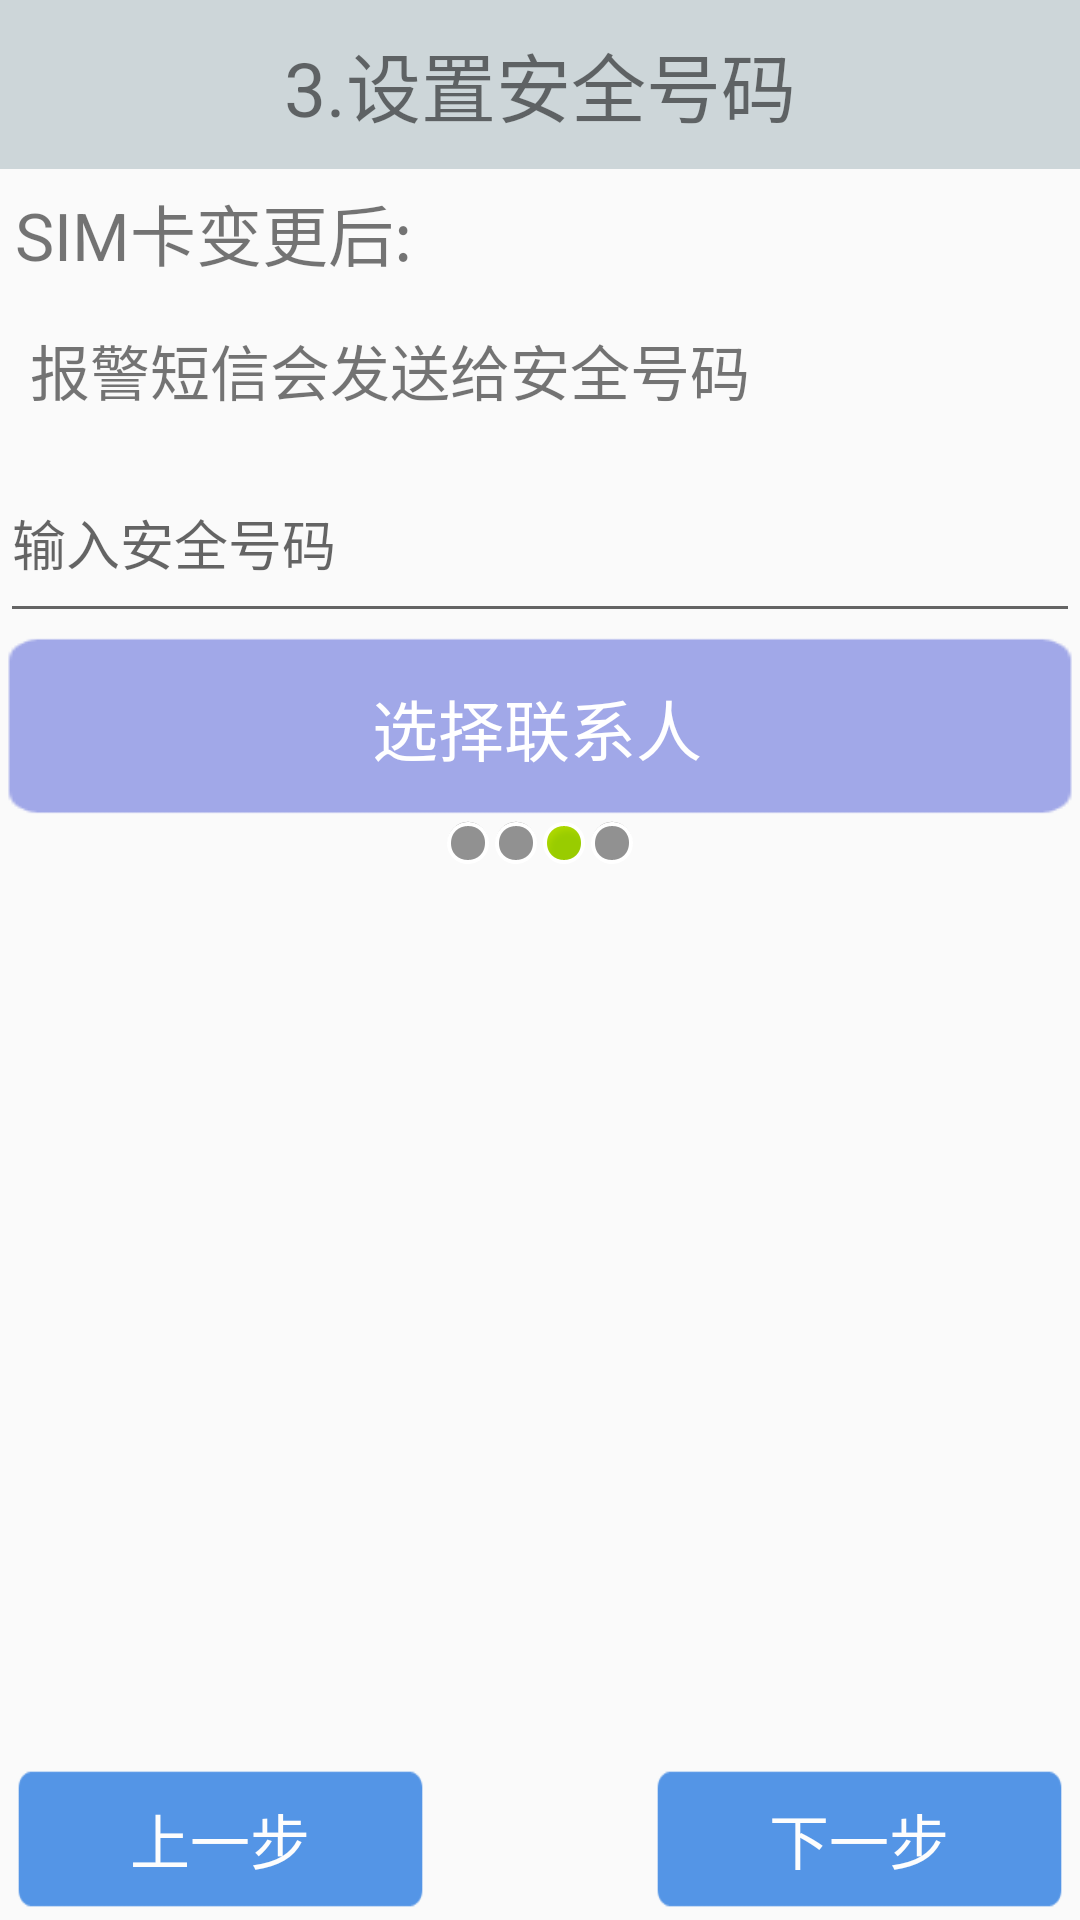

Named icons in this screenshot (1080px×1920px) and their bounding boxes, (x1, y1, x2, y2):
presence invisible: (451, 822, 485, 860), (499, 822, 533, 860), (595, 822, 629, 860)
presence online: (547, 826, 581, 860)
